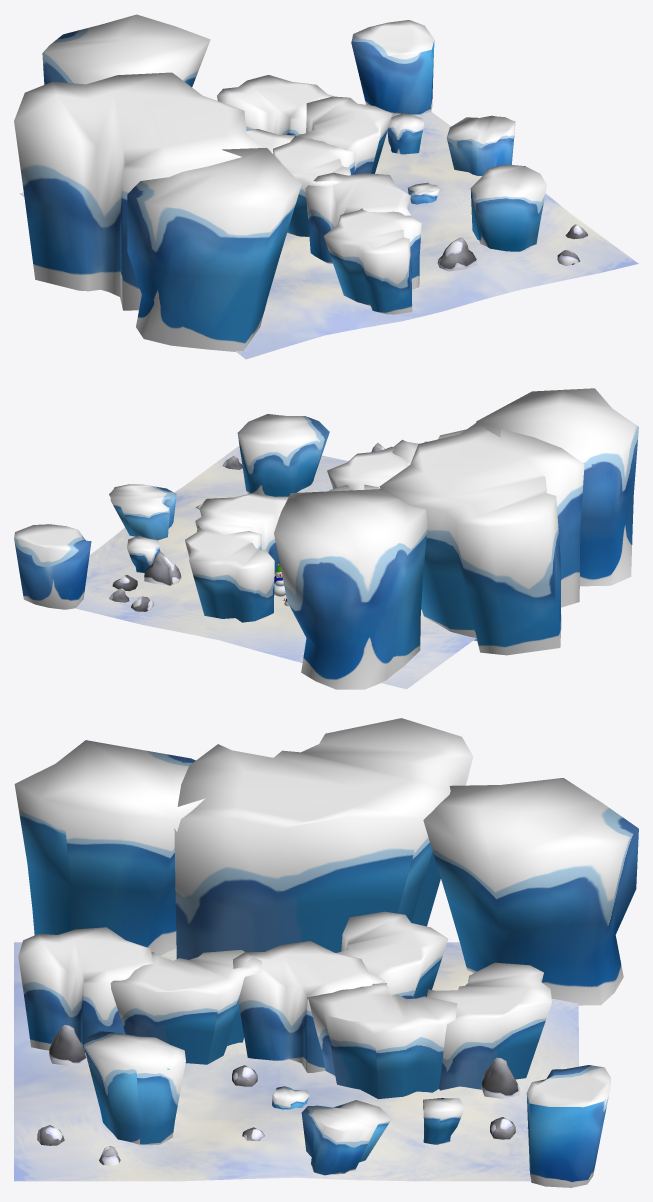
Rendered from IceBigMap3.FBX.
The picture shows the model from 3 angles, top to bottom: view 1: azimuth 30°, elevation 25°; view 2: azimuth 150°, elevation 25°; view 3: azimuth 270°, elevation 25°; orthographic projection. The views are drawn at different scales.
Visible parts, largest first — view 1: Iceberg008, Iceberg009, tereno1, Iceberg010, Iceberg011, 005, Iceberg018, Iceberg012, Iceberg015, Iceberg016, Iceberg013, Iceberg017 (+4 smaller); view 2: Iceberg008, Iceberg010, tereno1, Iceberg009, Iceberg016, Iceberg018, 005, Iceberg015, Iceberg017, Iceberg012, Iceberg020, Stone005 (+1 smaller); view 3: Iceberg008, tereno1, Iceberg010, Iceberg009, Iceberg015, Iceberg012, Iceberg011, Iceberg013, Iceberg016, Iceberg018, 005, Iceberg014 (+5 smaller).
Part boxes in pixels (left/top/right/bottom): Iceberg008: left=14, top=72, right=264, bottom=310; Iceberg009: left=127, top=148, right=301, bottom=351; tereno1: left=19, top=112, right=638, bottom=359; Iceberg010: left=42, top=14, right=210, bottom=86; Iceberg011: left=324, top=208, right=421, bottom=314; 005: left=351, top=20, right=434, bottom=116; Iceberg018: left=470, top=164, right=546, bottom=251; Iceberg012: left=305, top=172, right=410, bottom=263; Iceberg015: left=298, top=96, right=392, bottom=174; Iceberg016: left=217, top=75, right=334, bottom=135; Iceberg013: left=273, top=135, right=355, bottom=236; Iceberg017: left=446, top=115, right=515, bottom=175; Iceberg008: left=379, top=422, right=584, bottom=655; Iceberg010: left=274, top=489, right=427, bottom=689; tereno1: left=74, top=445, right=476, bottom=689; Iceberg009: left=476, top=388, right=638, bottom=586; Iceberg016: left=185, top=525, right=274, bottom=622; Iceberg018: left=237, top=414, right=329, bottom=496; 005: left=14, top=524, right=91, bottom=609; Iceberg015: left=195, top=493, right=288, bottom=576; Iceberg017: left=109, top=484, right=176, bottom=540; Iceberg012: left=327, top=446, right=407, bottom=490; Iceberg020: left=127, top=535, right=160, bottom=573; Stone005: left=144, top=551, right=181, bottom=585; Iceberg008: left=174, top=718, right=473, bottom=959; tereno1: left=14, top=942, right=578, bottom=1181; Iceberg010: left=423, top=778, right=638, bottom=1005; Iceberg009: left=14, top=740, right=205, bottom=955; Iceberg015: left=307, top=983, right=457, bottom=1099; Iceberg012: left=110, top=950, right=261, bottom=1064; Iceberg011: left=18, top=927, right=155, bottom=1060; Iceberg013: left=233, top=941, right=384, bottom=1072; Iceberg016: left=427, top=962, right=551, bottom=1090; Iceberg018: left=83, top=1031, right=185, bottom=1145; 005: left=526, top=1065, right=610, bottom=1187; Iceberg014: left=337, top=911, right=448, bottom=998.
Bounding box in the file's own units: 616 × 183 × 553.
